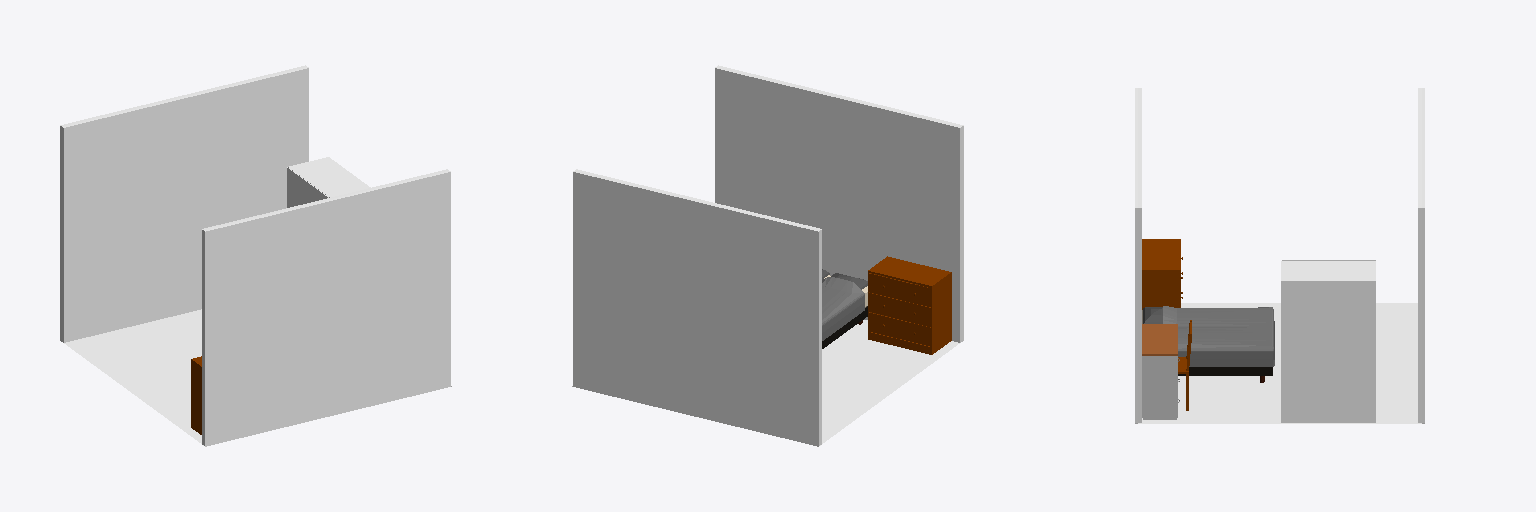
Rendered from habitacion.obj.
3 views of the same model, side by side, from view 1: azimuth 30°, elevation 25°; view 2: azimuth 150°, elevation 25°; view 3: azimuth 270°, elevation 25° (orthographic).
Parts seen in each view (by area): view 1: wall_3_11, wall_1_5, room_4_14, Corps_39, Corps_21, sweethome3d_opening_on_hinge_1_door_41; view 2: wall_1_4, wall_3_10, room_4_14, Corps_21, 15, sweethome3d_opening_on_rail_4_drawer_34, sweethome3d_opening_on_rail_3_drawer_33, sweethome3d_opening_on_rail_1_drawer_25, sweethome3d_opening_on_rail_2_drawer_26; view 3: Corps_39, room_4_14, 15, Corps_21, Bottom_48, Desk_49, wall_1_5, wall_3_10, 19, wall_1_4, wall_3_11.
Boxes of the visible parts, x1,y1,x2,y2 form: wall_3_11: [204, 172, 450, 446]; wall_1_5: [62, 68, 308, 342]; room_4_14: [64, 309, 203, 445]; Corps_39: [288, 157, 370, 197]; Corps_21: [191, 356, 201, 434]; sweethome3d_opening_on_hinge_1_door_41: [287, 167, 309, 207]; wall_1_4: [573, 172, 819, 446]; wall_3_10: [715, 68, 961, 342]; room_4_14: [820, 320, 959, 445]; Corps_21: [868, 256, 951, 354]; 15: [822, 277, 864, 340]; sweethome3d_opening_on_rail_4_drawer_34: [869, 312, 930, 346]; sweethome3d_opening_on_rail_3_drawer_33: [869, 293, 930, 326]; sweethome3d_opening_on_rail_1_drawer_25: [869, 273, 899, 299]; sweethome3d_opening_on_rail_2_drawer_26: [900, 281, 930, 306]; Corps_39: [1281, 261, 1375, 422]; room_4_14: [1138, 303, 1421, 423]; 15: [1163, 306, 1274, 366]; Corps_21: [1142, 239, 1180, 309]; Bottom_48: [1142, 356, 1177, 417]; Desk_49: [1142, 324, 1177, 355]; wall_1_5: [1418, 208, 1421, 422]; wall_3_10: [1138, 208, 1141, 422]; 19: [1178, 367, 1272, 375]; wall_1_4: [1422, 208, 1424, 422]; wall_3_11: [1135, 208, 1137, 422].
Bounding box in the file's own units: 300 × 250 × 306.